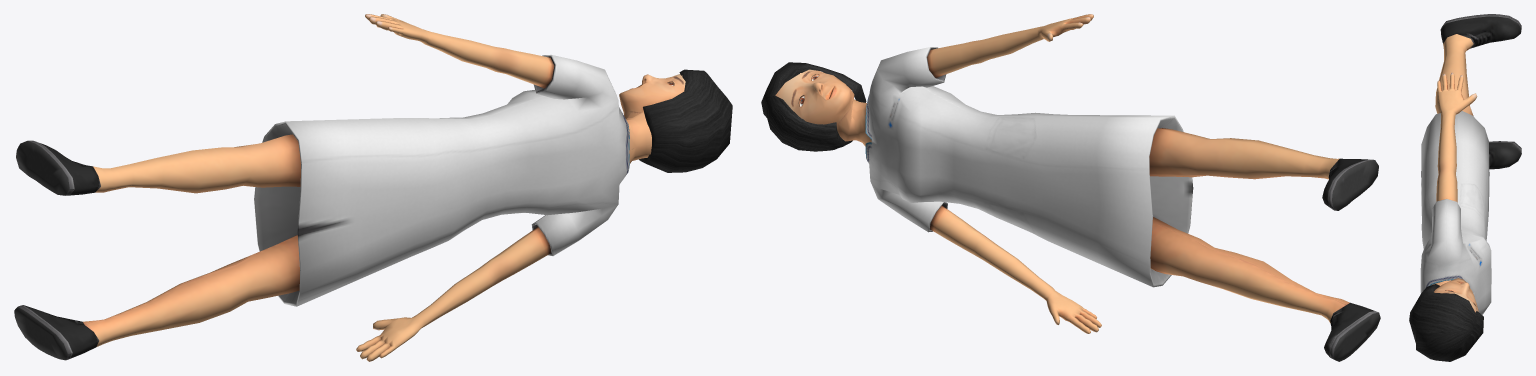
Rendered from nurse_prone.glb.
3 renders of one model, left to right at view 1: azimuth 30°, elevation 25°; view 2: azimuth 150°, elevation 25°; view 3: azimuth 270°, elevation 25°, orthographic. The views are drawn at different scales.
Visible parts, largest first — view 1: world; view 2: world; view 3: world.
Part boxes in pixels (<box>): world: <box>14,14,732,361</box>; world: <box>761,14,1380,361</box>; world: <box>1409,14,1521,361</box>.
Bounding box in the file's own units: 1.61 × 0.7852 × 0.3071.
1 material, 1 textured.
